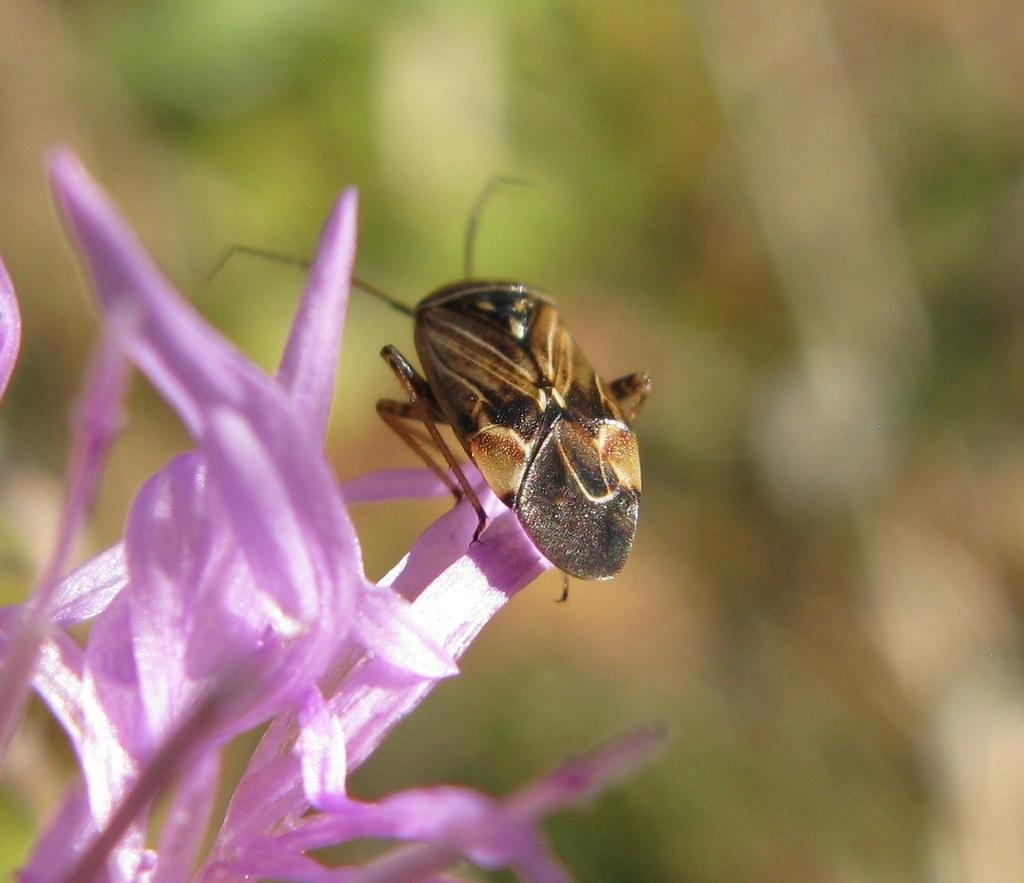plant_bugs: (207, 120, 772, 648)
